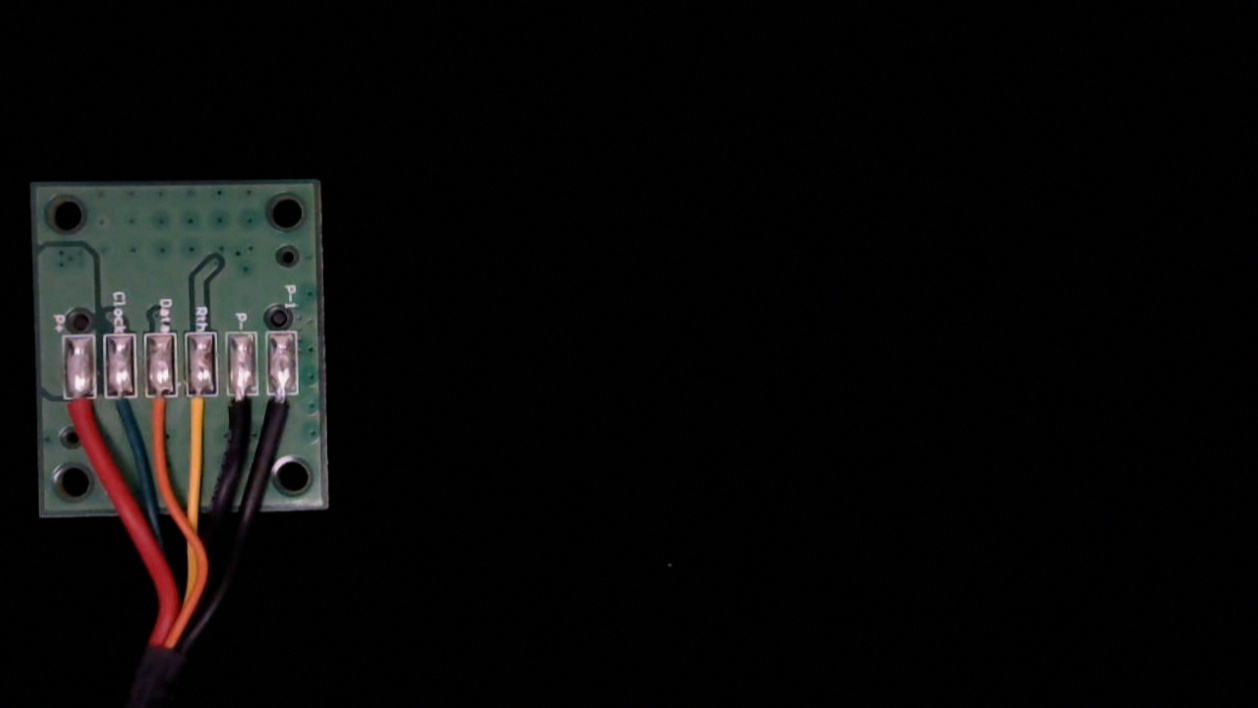Black: (226, 381, 258, 450)
Black1: (267, 381, 301, 447)
Green: (104, 381, 140, 451)
Orange: (147, 381, 181, 453)
Red: (63, 384, 99, 454)
Yellow: (183, 382, 219, 456)
